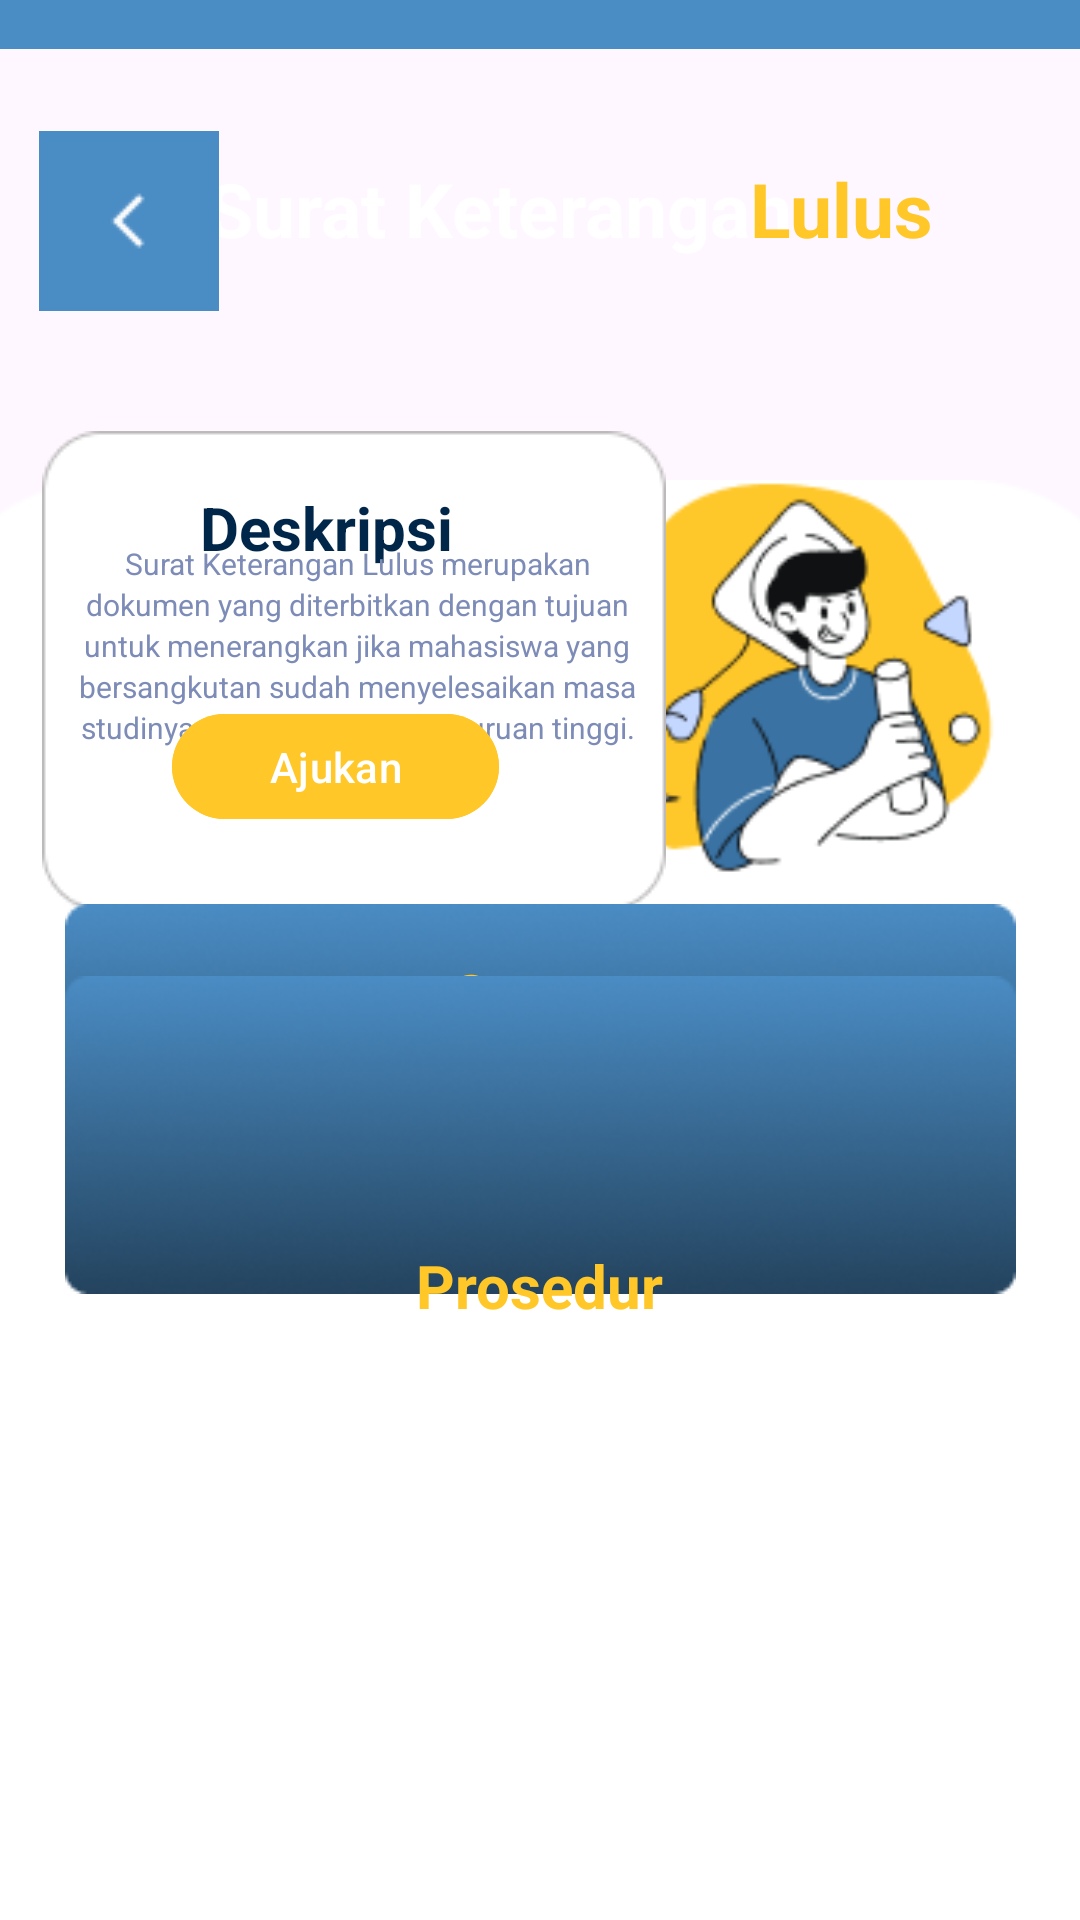

Point at icon controls on the screen. Image size 1080*1920, points as (x,y).
button back: (129,221)
